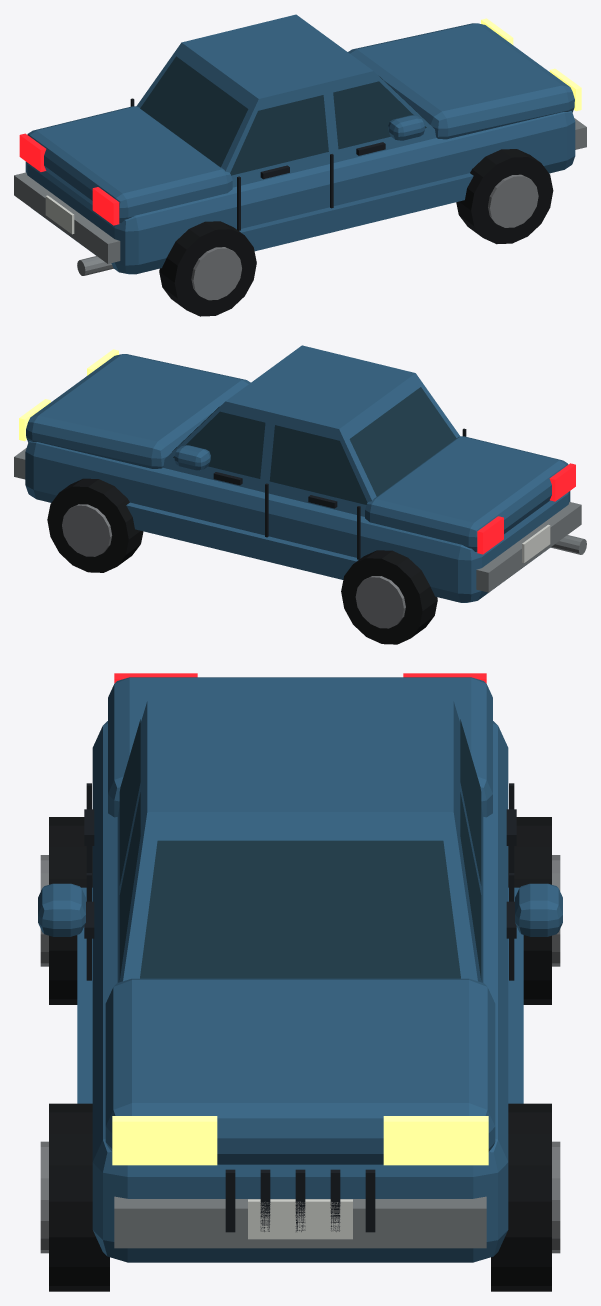
The model's file is Stage5.glb.
3 views of the same model, one above another, from view 1: azimuth 30°, elevation 25°; view 2: azimuth 150°, elevation 25°; view 3: azimuth 270°, elevation 25° (orthographic). The views are drawn at different scales.
Parts seen in each view (by area): view 1: LowerBody.004, CabinShell.004, Hood.004, Trunk.004, SideWindows.002, RearWindow.003, RockerPanels.004, Tire_-1.55_-1.005, Tire_1.55_-1.004, Bumpers.003, Rim_-1.55_-1.005, Rim_1.55_-1.004 (+7 smaller); view 2: LowerBody.004, CabinShell.004, Hood.004, Trunk.004, SideWindows.002, RearWindow.003, RockerPanels.004, Tire_-1.55_1.005, Tire_1.55_1.005, Bumpers.003, Rim_-1.55_1.005, Rim_1.55_1.005 (+7 smaller); view 3: Hood.004, CabinShell.004, Windshield.004, LowerBody.004, Trunk.004, Bumpers.003, Headlights.001, Tire_1.55_-1.004, Tire_1.55_1.005, SideWindows.002, RockerPanels.004, Tire_-1.55_-1.005 (+10 smaller).
Boxes of the visible parts, <box> form: LowerBody.004: <box>25,111,575,274</box>; CabinShell.004: <box>136,14,436,187</box>; Hood.004: <box>348,23,574,139</box>; Trunk.004: <box>27,106,232,222</box>; SideWindows.002: <box>230,81,426,175</box>; RearWindow.003: <box>140,56,248,167</box>; RockerPanels.004: <box>239,173,473,251</box>; Tire_-1.55_-1.005: <box>159,221,256,316</box>; Tire_1.55_-1.004: <box>456,149,553,244</box>; Bumpers.003: <box>14,118,586,263</box>; Rim_-1.55_-1.005: <box>191,247,241,300</box>; Rim_1.55_-1.004: <box>488,174,538,227</box>; LowerBody.004: <box>25,441,570,602</box>; CabinShell.004: <box>163,345,460,516</box>; Hood.004: <box>26,354,250,468</box>; Trunk.004: <box>365,436,568,551</box>; SideWindows.002: <box>173,411,367,504</box>; RearWindow.003: <box>349,387,456,496</box>; RockerPanels.004: <box>126,502,358,579</box>; Tire_-1.55_1.005: <box>341,550,437,644</box>; Tire_1.55_1.005: <box>47,478,143,572</box>; Bumpers.003: <box>14,448,581,592</box>; Rim_-1.55_1.005: <box>355,576,405,628</box>; Rim_1.55_1.005: <box>62,504,112,556</box>; Hood.004: <box>105,978,495,1164</box>; CabinShell.004: <box>117,701,483,982</box>; Windshield.004: <box>140,840,460,978</box>; LowerBody.004: <box>92,721,508,1262</box>; Trunk.004: <box>108,677,492,817</box>; Bumpers.003: <box>114,1196,486,1248</box>; Headlights.001: <box>112,1116,488,1165</box>; Tire_1.55_-1.004: <box>49,1103,109,1291</box>; Tire_1.55_1.005: <box>491,1103,551,1291</box>; SideWindows.002: <box>119,719,481,979</box>; RockerPanels.004: <box>77,887,523,1103</box>; Tire_-1.55_-1.005: <box>49,817,92,1004</box>.
Bounding box in the file's own units: 5.18 × 1.82 × 2.4.
